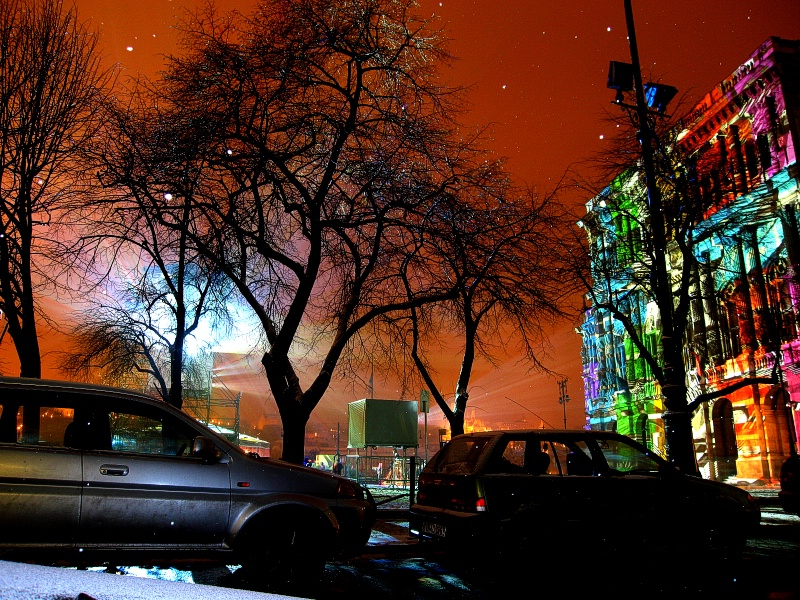car: (5, 375, 388, 589)
